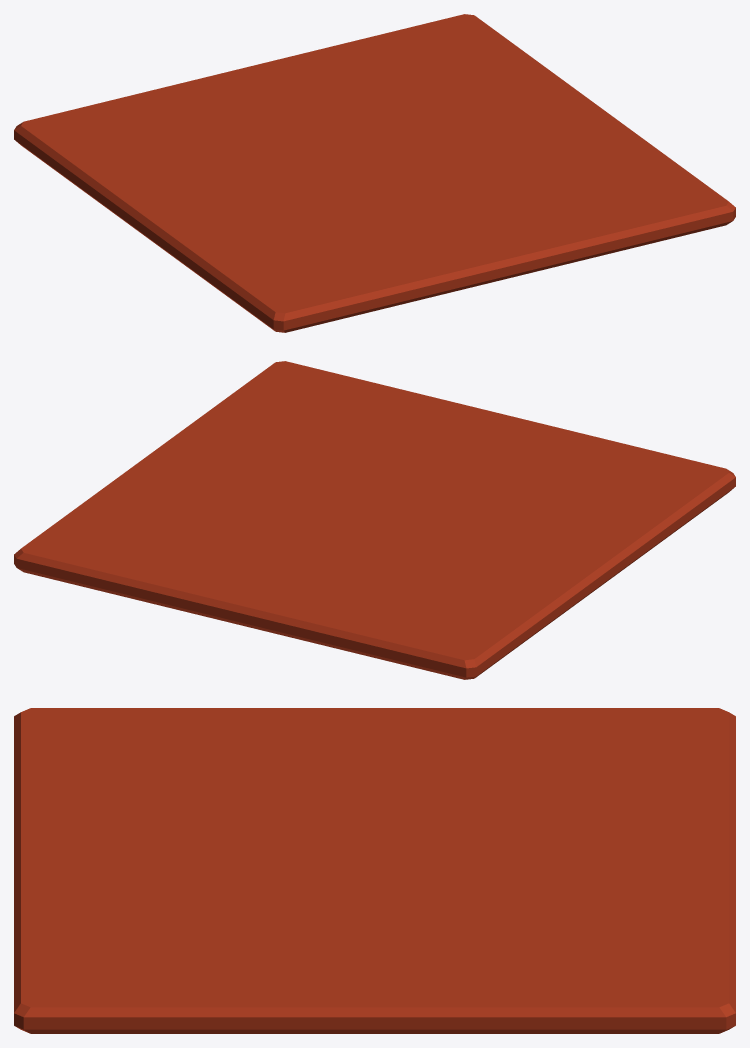
3 views of the same model, one above another, from view 1: azimuth 30°, elevation 25°; view 2: azimuth 150°, elevation 25°; view 3: azimuth 270°, elevation 25° (orthographic). The views are drawn at different scales.
Visible parts, largest first — view 1: Sp_Mat_2; view 2: Sp_Mat_2; view 3: Sp_Mat_2.
Boxes of the visible parts, box(x1,y1,x2,y2) form: Sp_Mat_2: box(14, 14, 735, 332); Sp_Mat_2: box(14, 361, 735, 679); Sp_Mat_2: box(14, 708, 735, 1033).
Size of the model in its own units: 100 by 4.05 by 100.
